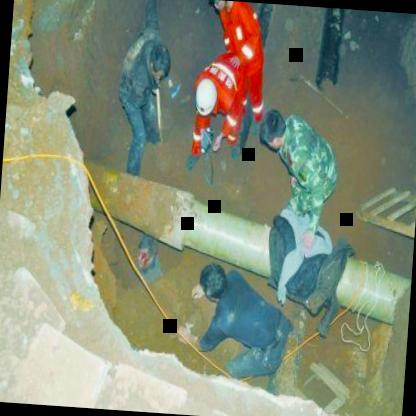head: (258, 107, 290, 162), (191, 262, 232, 302), (142, 42, 172, 86)
helmet: (188, 73, 223, 124), (207, 0, 231, 17)
